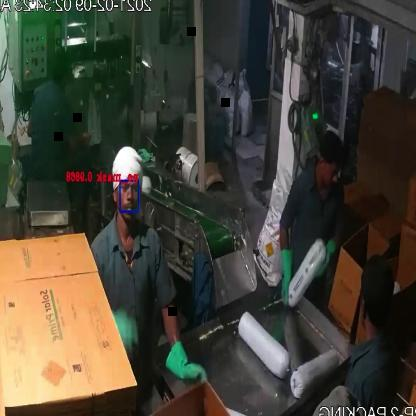glove: (164, 332, 212, 390), (306, 228, 344, 296), (271, 236, 299, 316)
